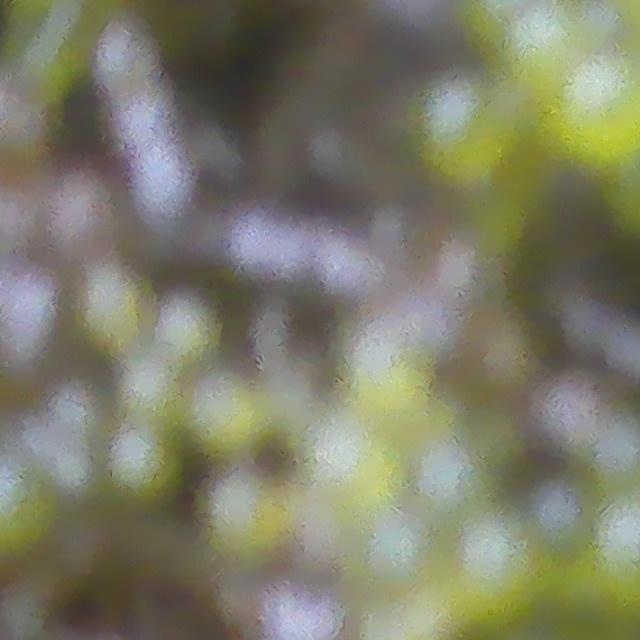SeaGrape: (453, 509, 555, 619), (543, 52, 640, 160), (183, 370, 275, 460), (108, 429, 181, 505), (154, 296, 221, 363), (365, 519, 427, 584), (412, 443, 472, 509), (121, 359, 179, 421)
